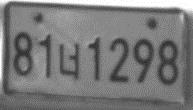1: (86, 35, 101, 82), (38, 32, 52, 79)
2: (108, 37, 130, 84)
8: (158, 38, 180, 86), (13, 31, 34, 77)
9: (131, 37, 155, 84)
너: (58, 41, 81, 81)
